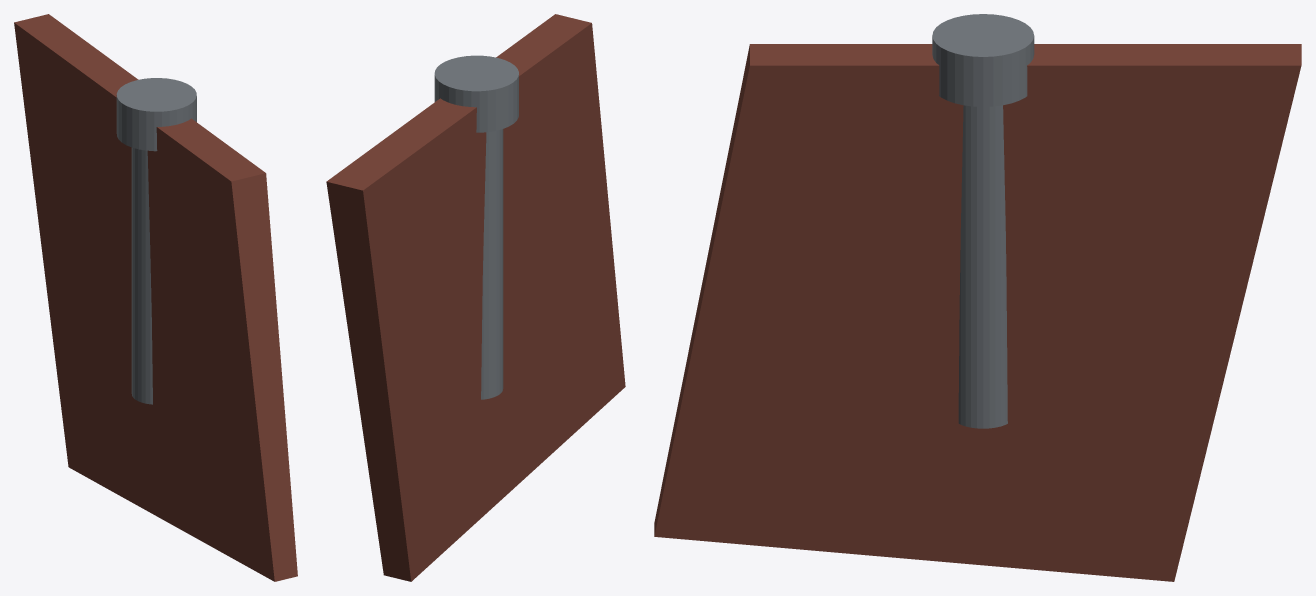
The picture shows the model from 3 angles, left to right: view 1: azimuth 30°, elevation 25°; view 2: azimuth 150°, elevation 25°; view 3: azimuth 270°, elevation 25°; orthographic projection. The views are drawn at different scales.
Visible parts, largest first — view 1: component.yaw.mesh, component.root.mesh; view 2: component.yaw.mesh, component.root.mesh; view 3: component.yaw.mesh, component.root.mesh.
Part boxes in pixels (<box>): component.yaw.mesh: <box>14,14,297,581</box>; component.root.mesh: <box>116,78,196,151</box>; component.yaw.mesh: <box>326,14,625,581</box>; component.root.mesh: <box>434,55,518,132</box>; component.yaw.mesh: <box>654,44,1301,581</box>; component.root.mesh: <box>932,14,1034,106</box>.
Size of the model in its own units: 0.48 by 2.8 by 3.05.
